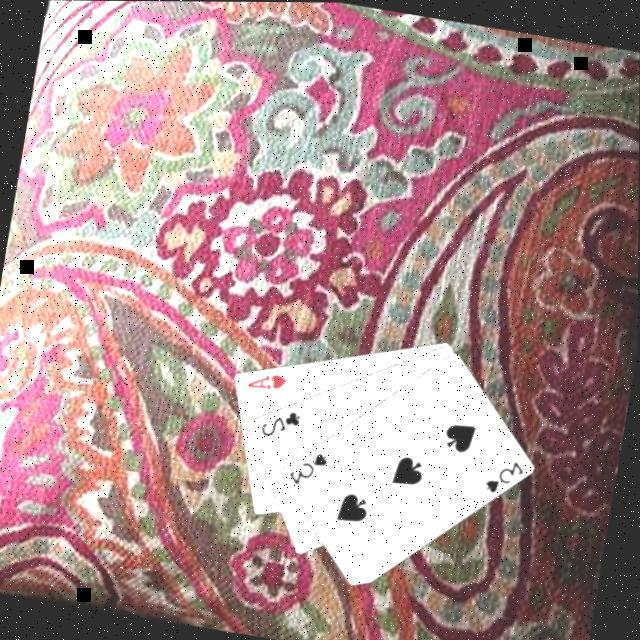2C: (257, 401, 306, 442)
3S: (286, 442, 334, 490), (482, 451, 530, 497)
AH: (245, 363, 292, 394)
